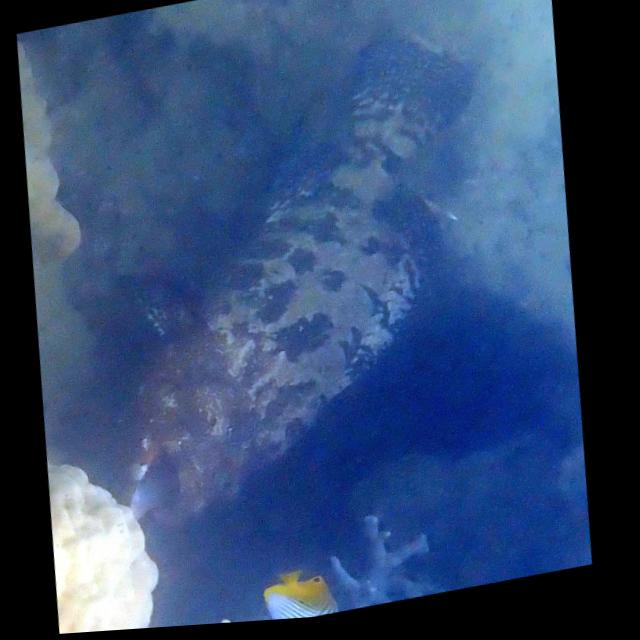Groupers: (63, 10, 529, 541)
